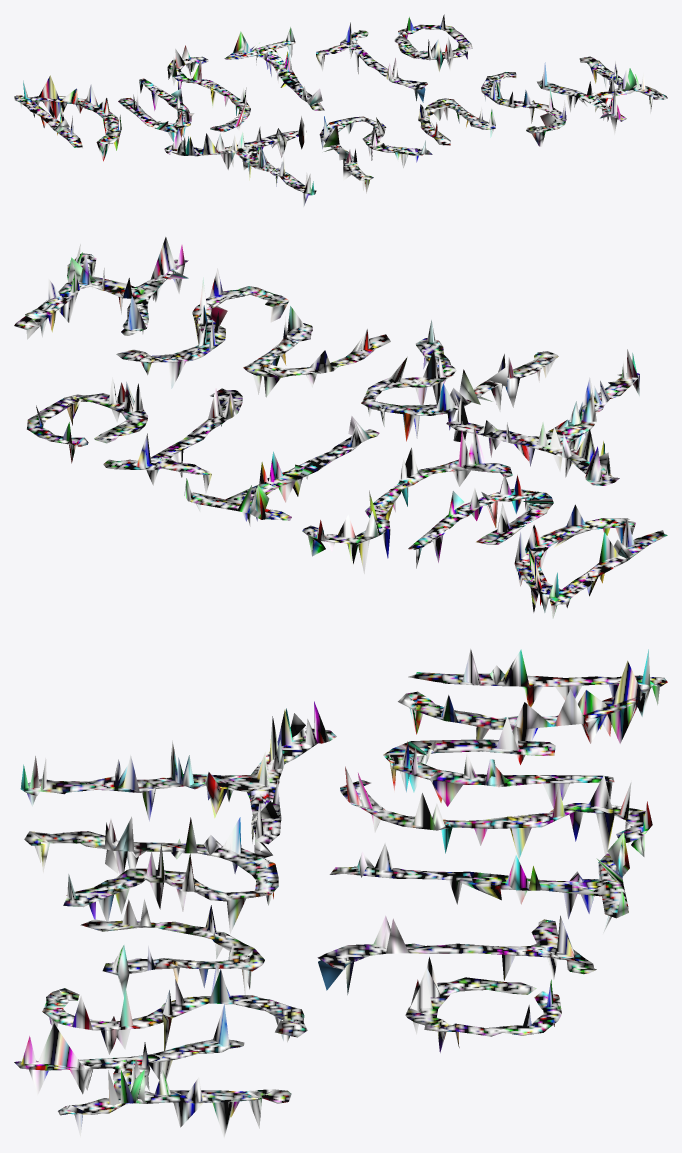
The model's file is 05_DUST_TO_TRASH.glb.
3 renders of one model, top to bottom at view 1: azimuth 30°, elevation 25°; view 2: azimuth 150°, elevation 25°; view 3: azimuth 270°, elevation 25°, orthographic. The views are drawn at different scales.
Parts seen in each view (by area): view 1: 05_DUST_TO_TRASH; view 2: 05_DUST_TO_TRASH; view 3: 05_DUST_TO_TRASH.
Boxes of the visible parts, left/top/right/bottom form: 05_DUST_TO_TRASH: left=14, top=14, right=667, bottom=206; 05_DUST_TO_TRASH: left=14, top=237, right=667, bottom=618; 05_DUST_TO_TRASH: left=14, top=649, right=667, bottom=1138.
Bounding box in the file's own units: 2.12 × 0.2067 × 1.32.
1 material, 1 textured.
